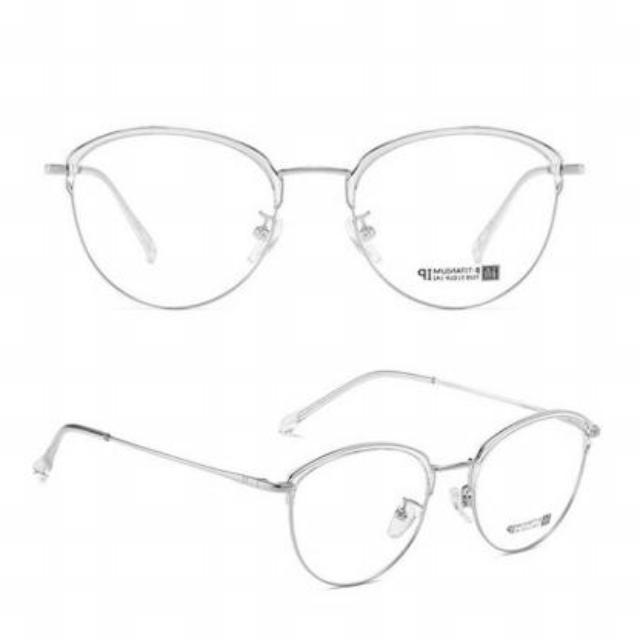glasses: (39, 368, 599, 590), (55, 122, 577, 307)
